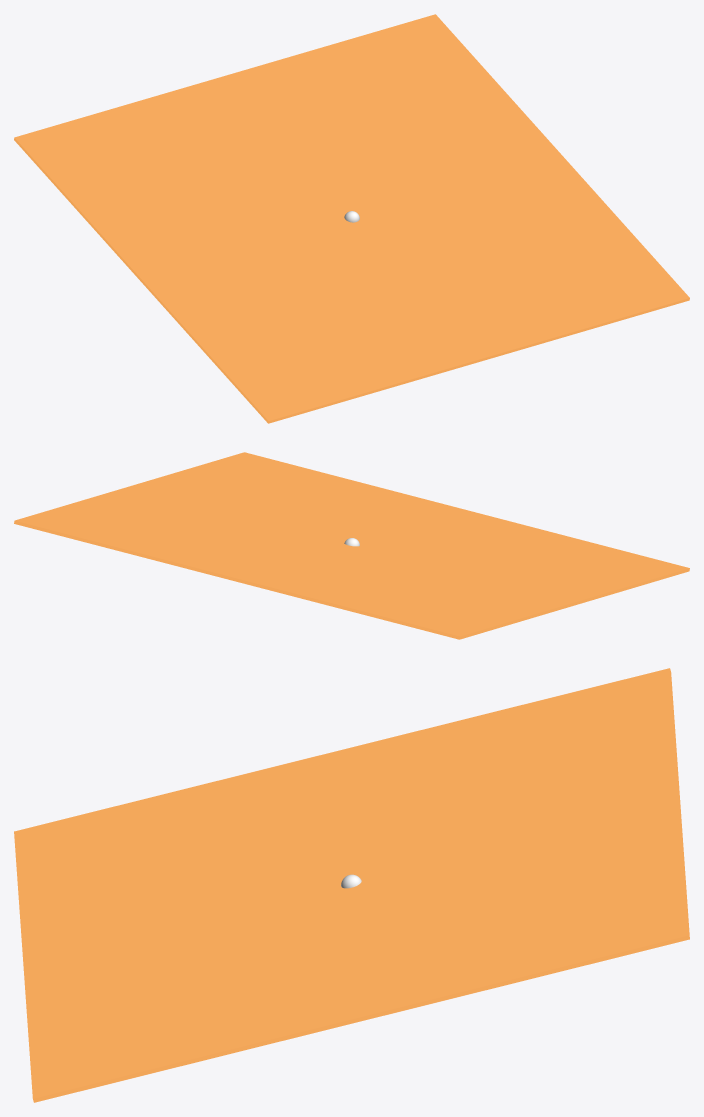
Rendered from blackhole.glb.
3 renders of one model, top to bottom at view 1: azimuth 30°, elevation 25°; view 2: azimuth 150°, elevation 25°; view 3: azimuth 270°, elevation 25°, orthographic. The views are drawn at different scales.
Visible parts, largest first — view 1: Accreation disc; view 2: Accreation disc; view 3: Accreation disc.
Part boxes in pixels (<box>): Accreation disc: <box>14,14,689,423</box>; Accreation disc: <box>14,452,689,639</box>; Accreation disc: <box>14,668,689,1102</box>.
Size of the model in its own units: 82.35 by 22.86 by 79.42.
